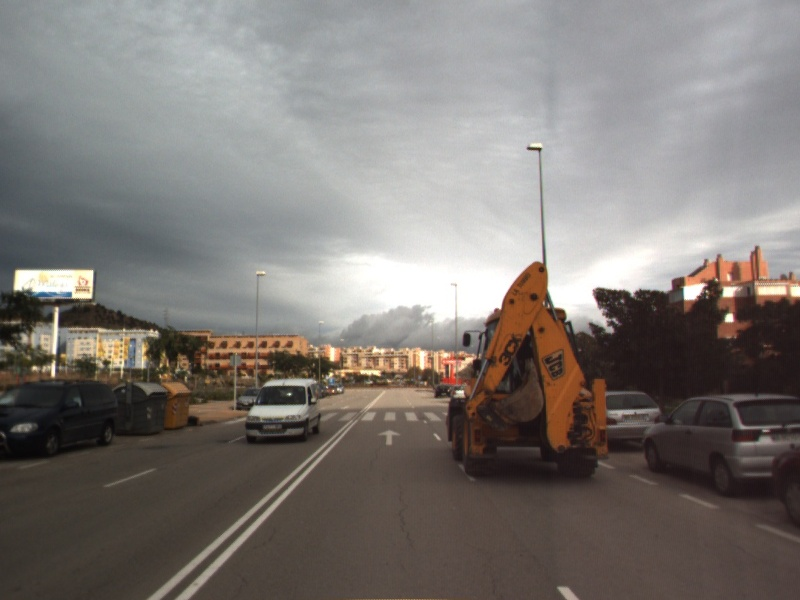STRAIGHT: (376, 427, 403, 447)
